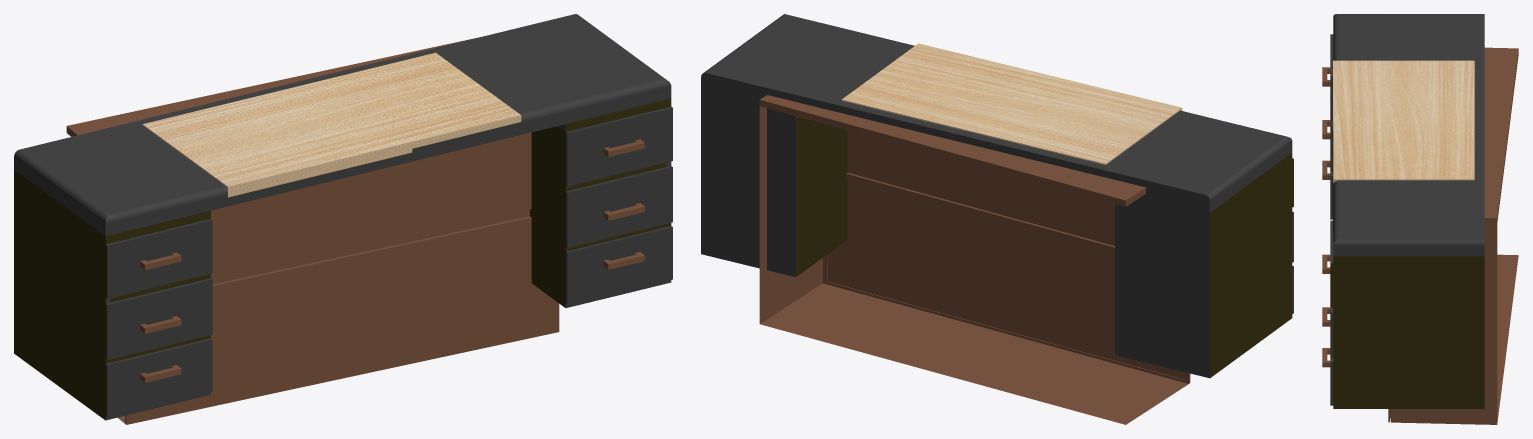
The model's file is table-BsW5TGBT.glb.
3 renders of one model, left to right at view 1: azimuth 30°, elevation 25°; view 2: azimuth 150°, elevation 25°; view 3: azimuth 270°, elevation 25°, orthographic. The views are drawn at different scales.
Parts seen in each view (by area): view 1: StudyShelf_1500; view 2: StudyShelf_1500; view 3: StudyShelf_1500.
Boxes of the visible parts, left/top/right/bottom form: StudyShelf_1500: left=14, top=14, right=672, bottom=424; StudyShelf_1500: left=701, top=14, right=1293, bottom=424; StudyShelf_1500: left=1322, top=14, right=1518, bottom=424.
Size of the model in its own units: 416 by 182 by 151.
Materials: 4 (1 with a texture image).
